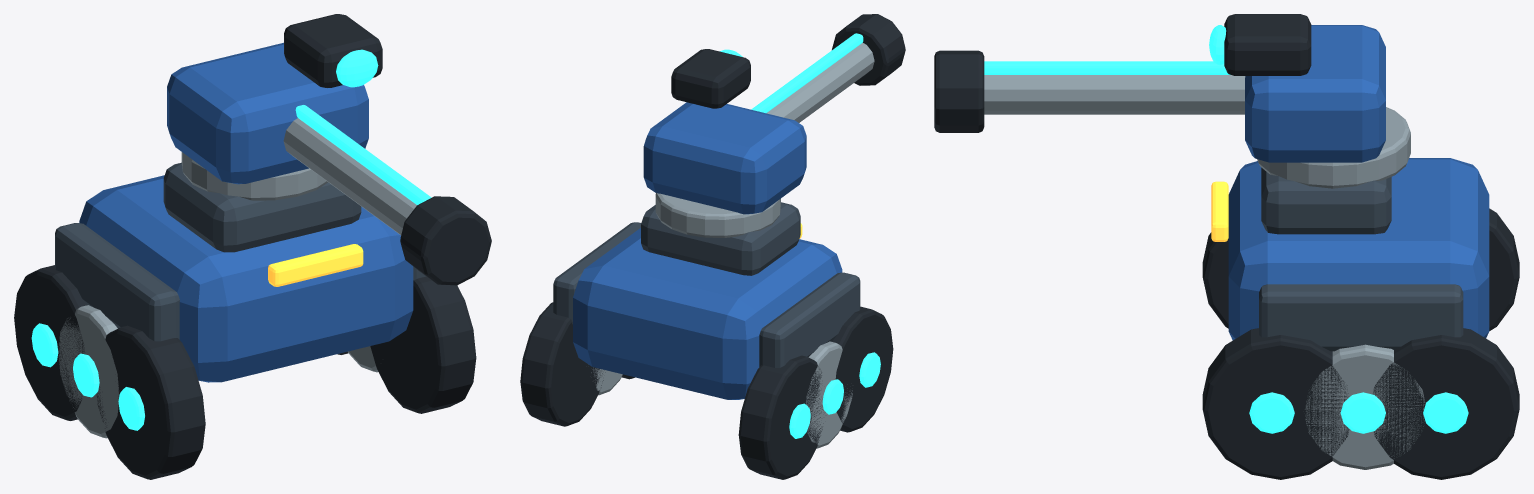
The model's file is mech_vectra.glb.
The picture shows the model from 3 angles, left to right: view 1: azimuth 30°, elevation 25°; view 2: azimuth 150°, elevation 25°; view 3: azimuth 270°, elevation 25°; orthographic projection. The views are drawn at different scales.
Parts seen in each view (by area): view 1: Vectra armored chassis, Sniper turret, Drive wheel, Drive wheel.003, Top sensor deck, Side armor skirt, Drive wheel.001, Muzzle brake, Long railgun barrel, Drive wheel.002, Optic housing, Rotating turret ring (+6 smaller); view 2: Vectra armored chassis, Sniper turret, Drive wheel.001, Drive wheel.004, Top sensor deck, Side armor skirt, Drive wheel, Optic housing, Rotating turret ring, Long railgun barrel, Muzzle brake, Drive wheel.002 (+6 smaller); view 3: Vectra armored chassis, Drive wheel.003, Sniper turret, Drive wheel.004, Side armor skirt.001, Long railgun barrel, Drive wheel.005, Top sensor deck, Optic housing, Rotating turret ring, Muzzle brake, Barrel cyan rail (+6 smaller).
Boxes of the visible parts, x1=… form: Vectra armored chassis: x1=79, y1=175, x2=413, y2=382; Sniper turret: x1=167, y1=42, x2=368, y2=184; Drive wheel: x1=96, y1=325, x2=205, y2=479; Drive wheel.003: x1=370, y1=276, x2=476, y2=413; Top sensor deck: x1=163, y1=162, x2=361, y2=252; Side armor skirt: x1=55, y1=223, x2=179, y2=341; Drive wheel.001: x1=14, y1=265, x2=86, y2=420; Muzzle brake: x1=400, y1=196, x2=491, y2=285; Long railgun barrel: x1=283, y1=118, x2=416, y2=235; Drive wheel.002: x1=58, y1=305, x2=119, y2=438; Optic housing: x1=284, y1=14, x2=382, y2=87; Rotating turret ring: x1=181, y1=152, x2=327, y2=200; Vectra armored chassis: x1=573, y1=228, x2=842, y2=399; Sniper turret: x1=643, y1=102, x2=806, y2=214; Drive wheel.001: x1=738, y1=355, x2=823, y2=479; Drive wheel.004: x1=520, y1=302, x2=605, y2=426; Top sensor deck: x1=641, y1=202, x2=800, y2=275; Side armor skirt: x1=759, y1=272, x2=860, y2=367; Drive wheel: x1=831, y1=306, x2=893, y2=432; Optic housing: x1=671, y1=49, x2=750, y2=108; Rotating turret ring: x1=655, y1=193, x2=780, y2=237; Long railgun barrel: x1=766, y1=43, x2=874, y2=122; Muzzle brake: x1=832, y1=14, x2=905, y2=85; Drive wheel.002: x1=806, y1=341, x2=852, y2=448; Vectra armored chassis: x1=1228, y1=158, x2=1489, y2=340; Drive wheel.003: x1=1202, y1=328, x2=1349, y2=479; Sniper turret: x1=1245, y1=25, x2=1385, y2=162; Drive wheel.004: x1=1373, y1=328, x2=1519, y2=479; Side armor skirt.001: x1=1259, y1=284, x2=1463, y2=351; Long railgun barrel: x1=984, y1=75, x2=1245, y2=114; Drive wheel.005: x1=1305, y1=344, x2=1425, y2=469; Top sensor deck: x1=1261, y1=167, x2=1391, y2=234; Optic housing: x1=1224, y1=14, x2=1311, y2=75; Rotating turret ring: x1=1257, y1=107, x2=1410, y2=188; Muzzle brake: x1=934, y1=50, x2=984, y2=132; Barrel cyan rail: x1=984, y1=61, x2=1230, y2=74.
Bounding box in the file's own units: 1.72 × 2.04 × 2.7.
